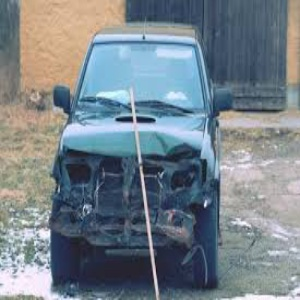bonnet: (144, 126, 201, 159)
bumper: (54, 190, 198, 243)
